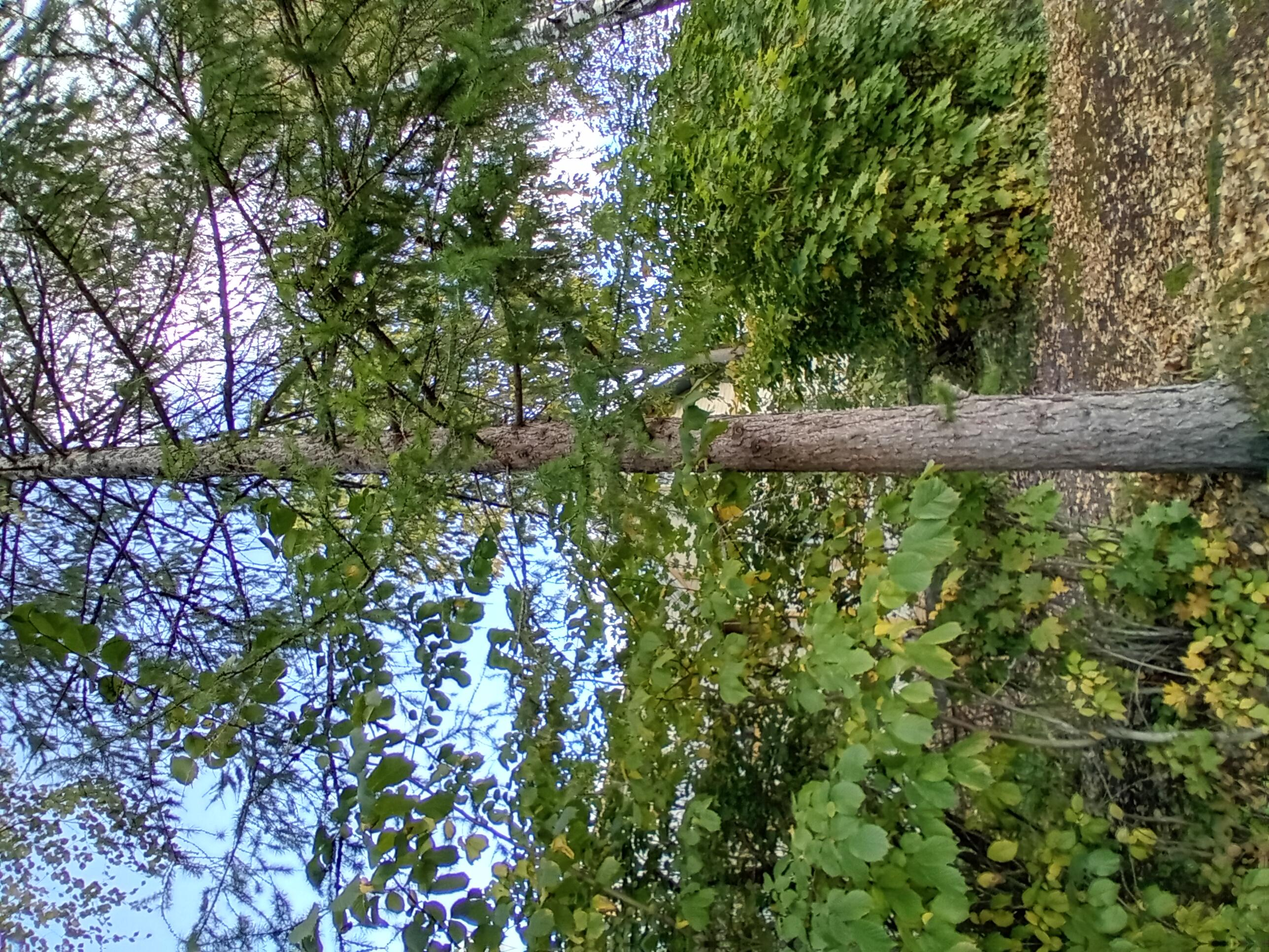Spruce: (248, 0, 1109, 950)
